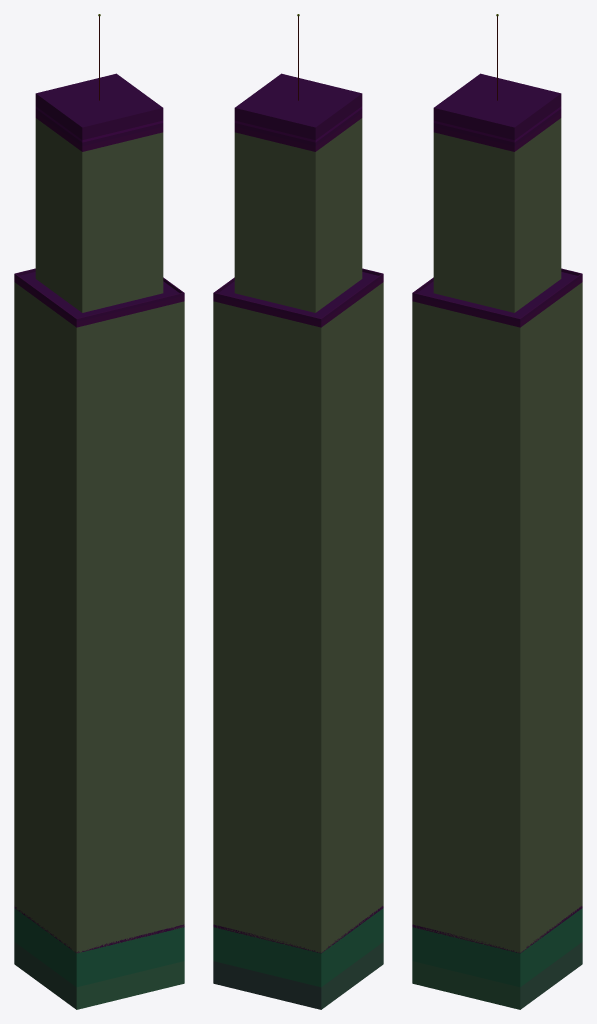
Rendered from tower_h.glb.
3 views of the same model, side by side, from view 1: azimuth 30°, elevation 25°; view 2: azimuth 150°, elevation 25°; view 3: azimuth 330°, elevation 25° (orthographic).
Visible parts, largest first — view 1: tower_h; view 2: tower_h; view 3: tower_h.
Part boxes in pixels (bbox=[...]): tower_h: bbox=[14, 14, 184, 1009]; tower_h: bbox=[213, 14, 383, 1009]; tower_h: bbox=[412, 14, 582, 1009].
Size of the model in its own units: 23.99 by 204 by 23.99.
